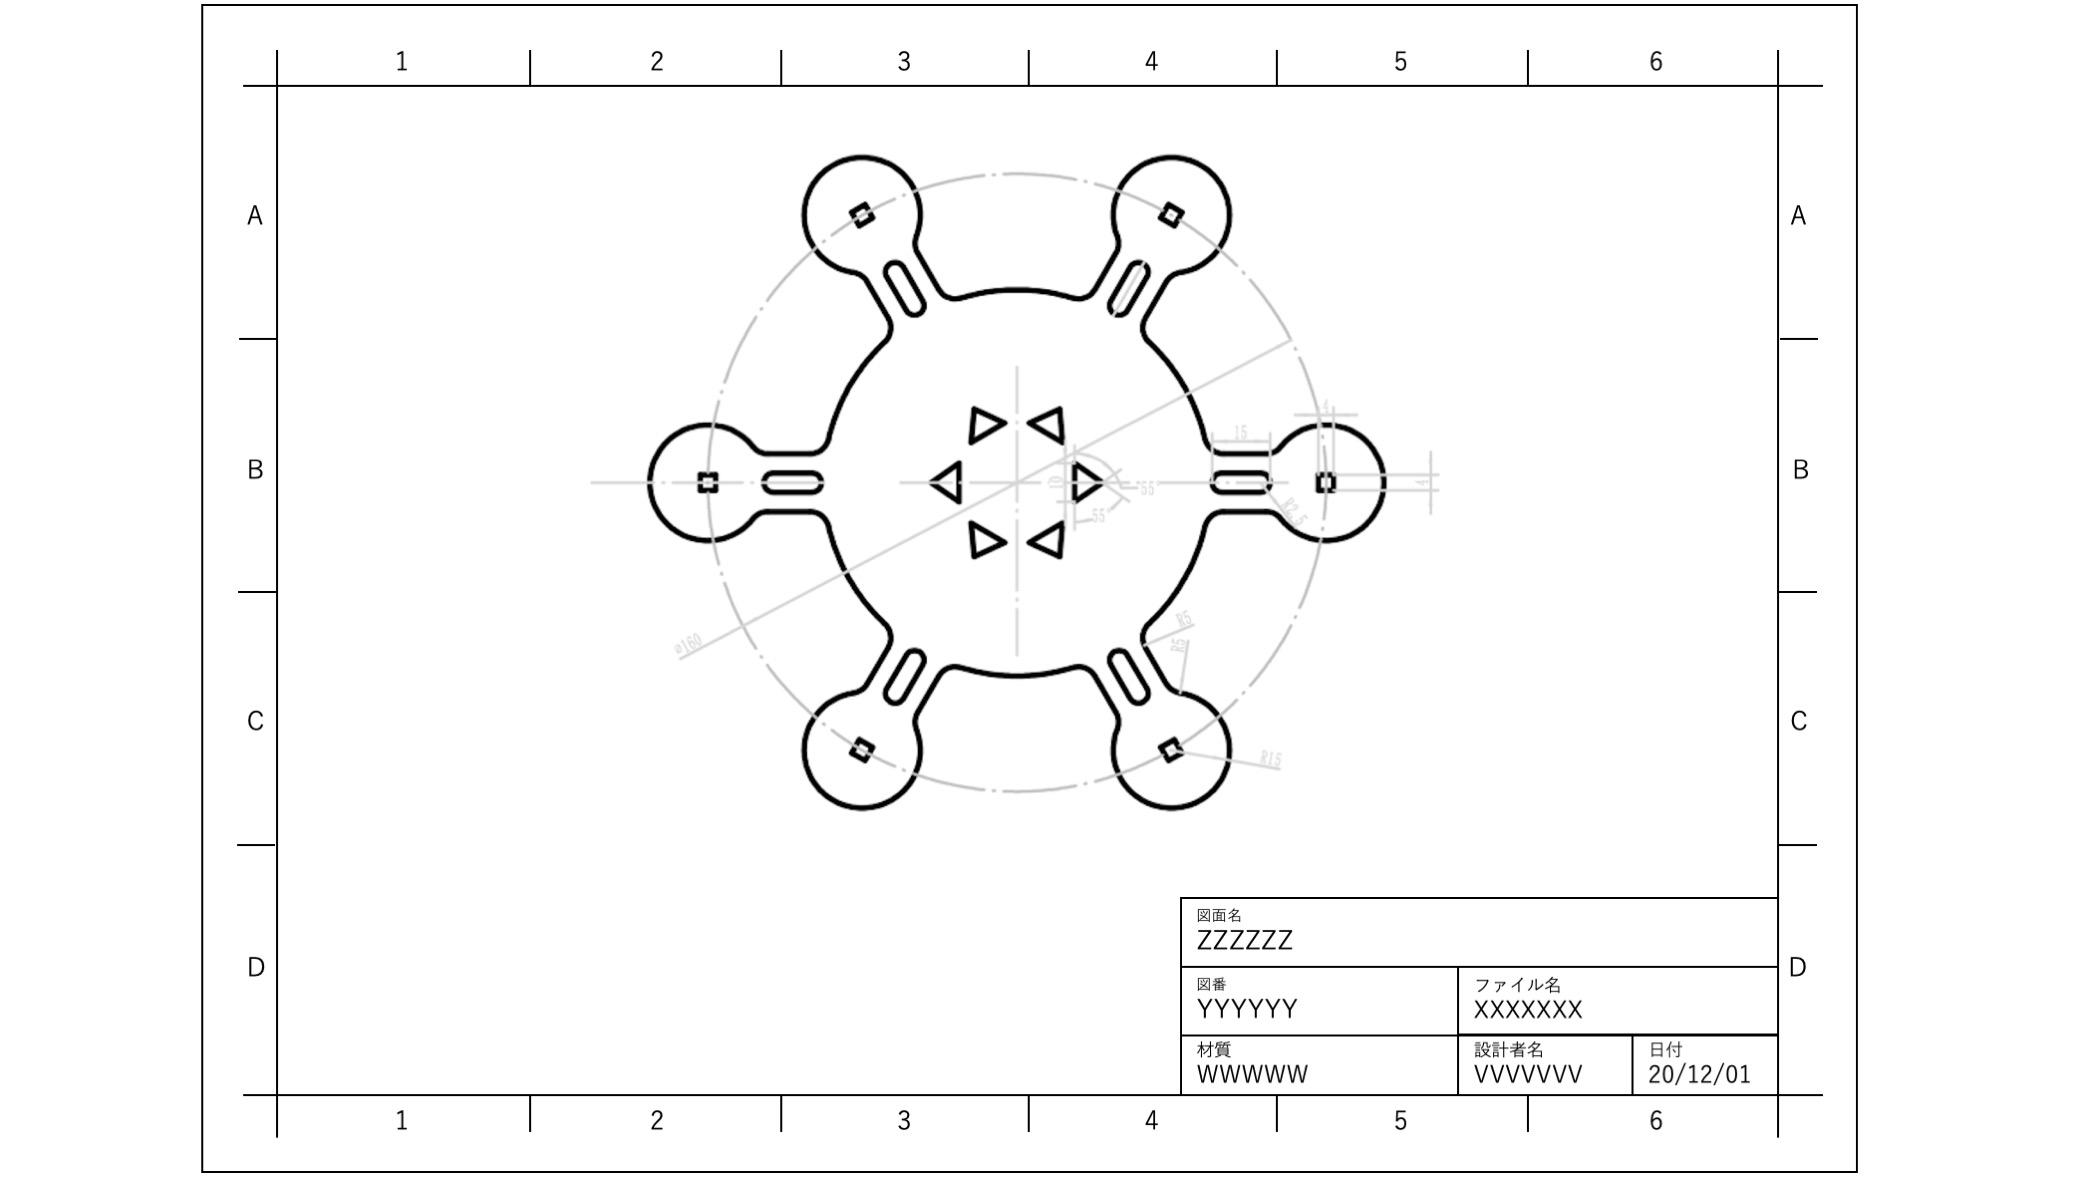circle: (844, 199, 890, 234), (847, 728, 883, 769), (1144, 199, 1191, 226), (692, 461, 728, 495), (1157, 728, 1186, 769), (1307, 461, 1338, 493)
round_rectangle: (1103, 244, 1155, 320), (878, 639, 932, 709), (1100, 645, 1154, 715), (875, 251, 932, 314), (751, 464, 834, 505), (1199, 467, 1271, 500)
triangle: (925, 451, 979, 506), (962, 397, 1017, 448), (953, 518, 1012, 565), (1054, 457, 1115, 503), (1023, 391, 1069, 448), (1023, 512, 1069, 561)
